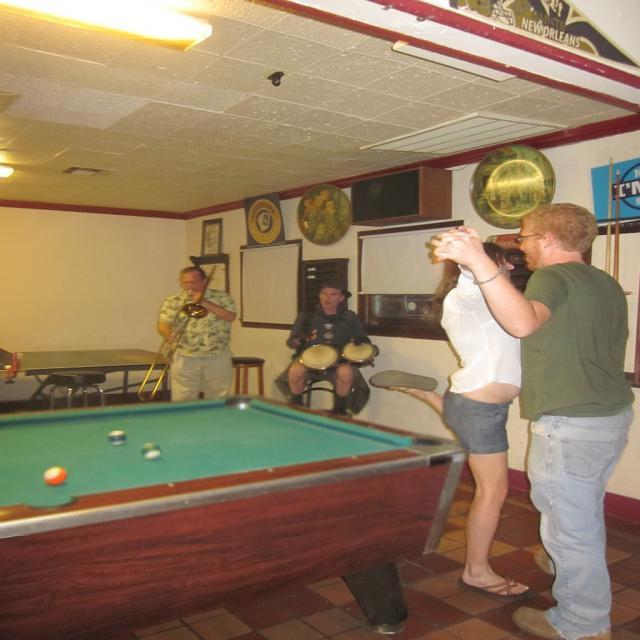Ball: (45, 467, 66, 486), (142, 444, 160, 462), (109, 431, 126, 445)
Billiard table: (0, 394, 469, 536)
